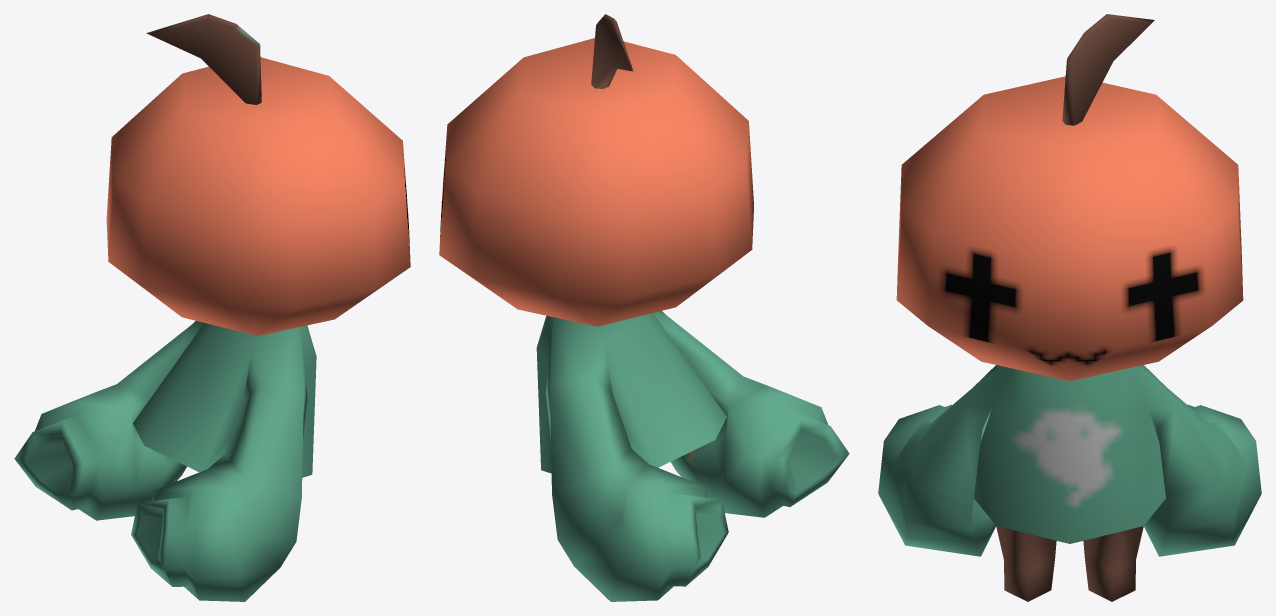
Rendered from Peter Pumpkin.glb.
3 renders of one model, left to right at view 1: azimuth 30°, elevation 25°; view 2: azimuth 150°, elevation 25°; view 3: azimuth 270°, elevation 25°, orthographic. The views are drawn at different scales.
Parts seen in each view (by area): view 1: stem_500; view 2: stem_500; view 3: stem_500.
Boxes of the visible parts, left/top/right/bottom form: stem_500: left=14, top=14, right=410, bottom=601; stem_500: left=439, top=14, right=849, bottom=601; stem_500: left=878, top=14, right=1261, bottom=601.
Bounding box in the file's own units: 0.8014 × 1.29 × 0.8003.
1 material, 1 textured.
